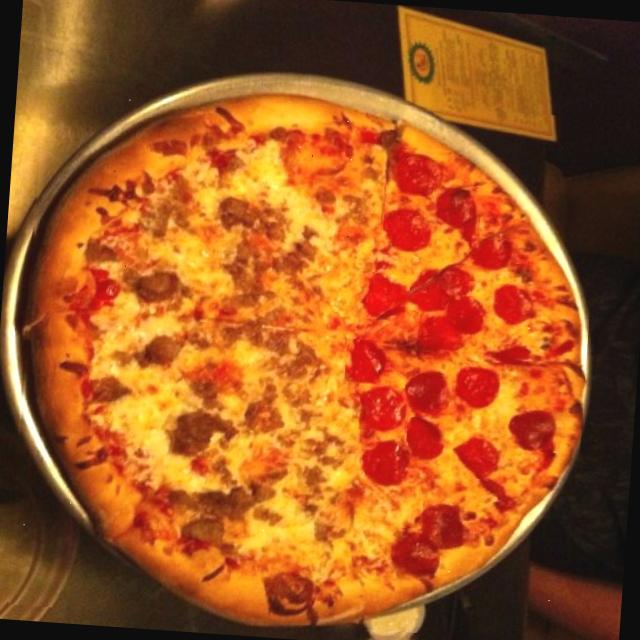pepperoni: (416, 293, 490, 364), (380, 201, 440, 258), (407, 261, 470, 315), (384, 147, 449, 197), (386, 526, 442, 582), (418, 499, 472, 556), (428, 186, 479, 242), (448, 360, 498, 416), (358, 441, 412, 488), (450, 432, 502, 479), (356, 270, 403, 321), (356, 385, 407, 432), (504, 408, 558, 452), (486, 283, 539, 327), (402, 372, 452, 414), (343, 338, 388, 384), (404, 416, 446, 464), (466, 237, 514, 271)
pizza: (27, 96, 583, 624)
